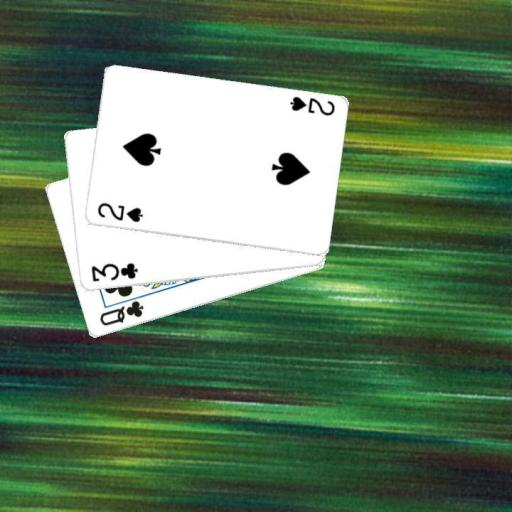2S: (94, 200, 144, 224), (286, 93, 336, 117)
3C: (88, 260, 139, 284)
QC: (96, 298, 145, 328)
